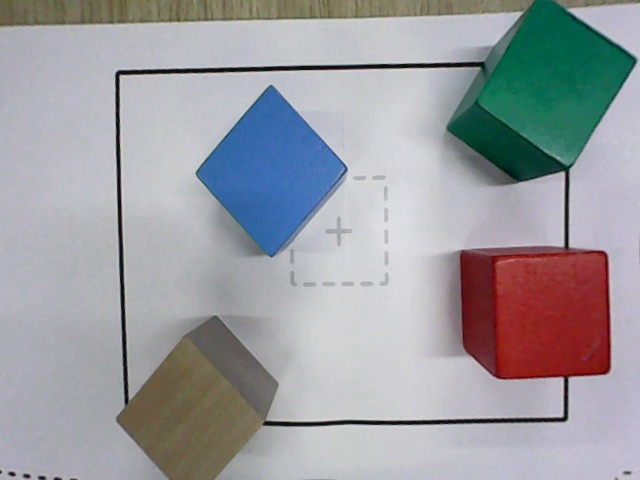upside of big cube: (474, 0, 638, 167), (195, 85, 347, 257), (114, 334, 265, 479), (494, 252, 610, 378)
